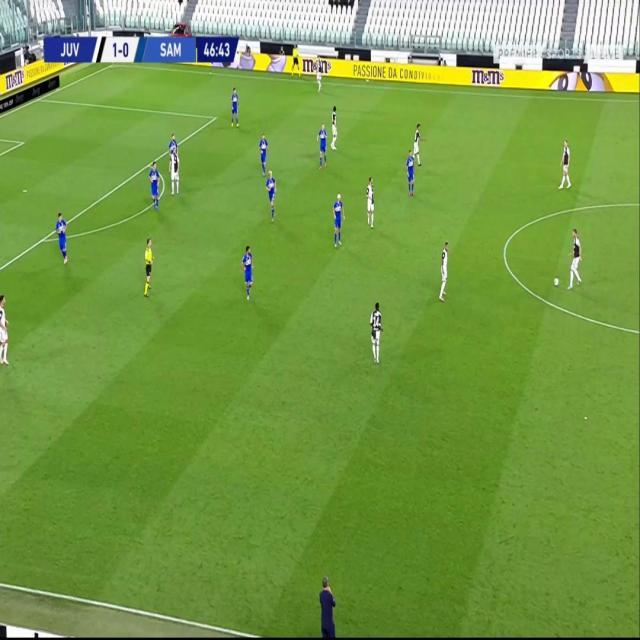ball: (553, 274, 560, 287)
player: (566, 227, 583, 290), (368, 301, 384, 365), (437, 238, 451, 302), (53, 210, 69, 265), (240, 243, 255, 301), (332, 190, 346, 247), (148, 160, 162, 214), (558, 137, 572, 190), (0, 290, 9, 367), (168, 141, 180, 196), (365, 174, 377, 228), (316, 122, 329, 170), (265, 169, 277, 221), (405, 148, 417, 197), (412, 123, 425, 166), (328, 104, 339, 152), (258, 132, 269, 177), (229, 85, 240, 128), (314, 54, 324, 92), (168, 135, 179, 158)
referee: (142, 235, 155, 297), (291, 42, 303, 76)
